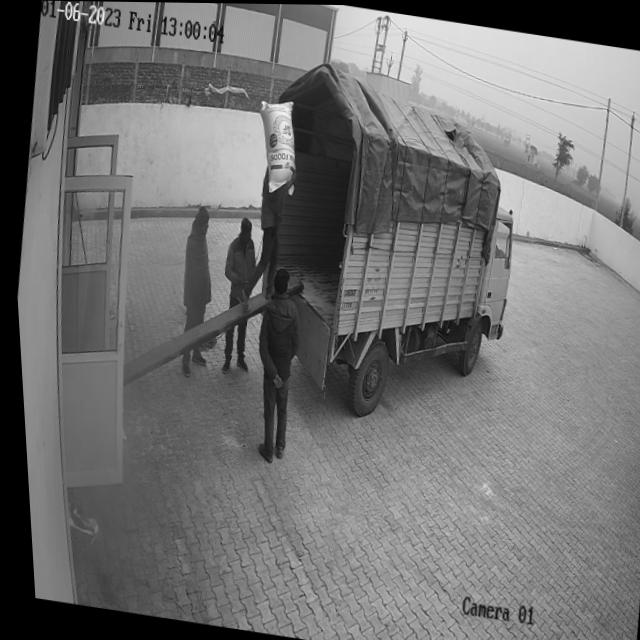sack: (247, 96, 302, 195)
